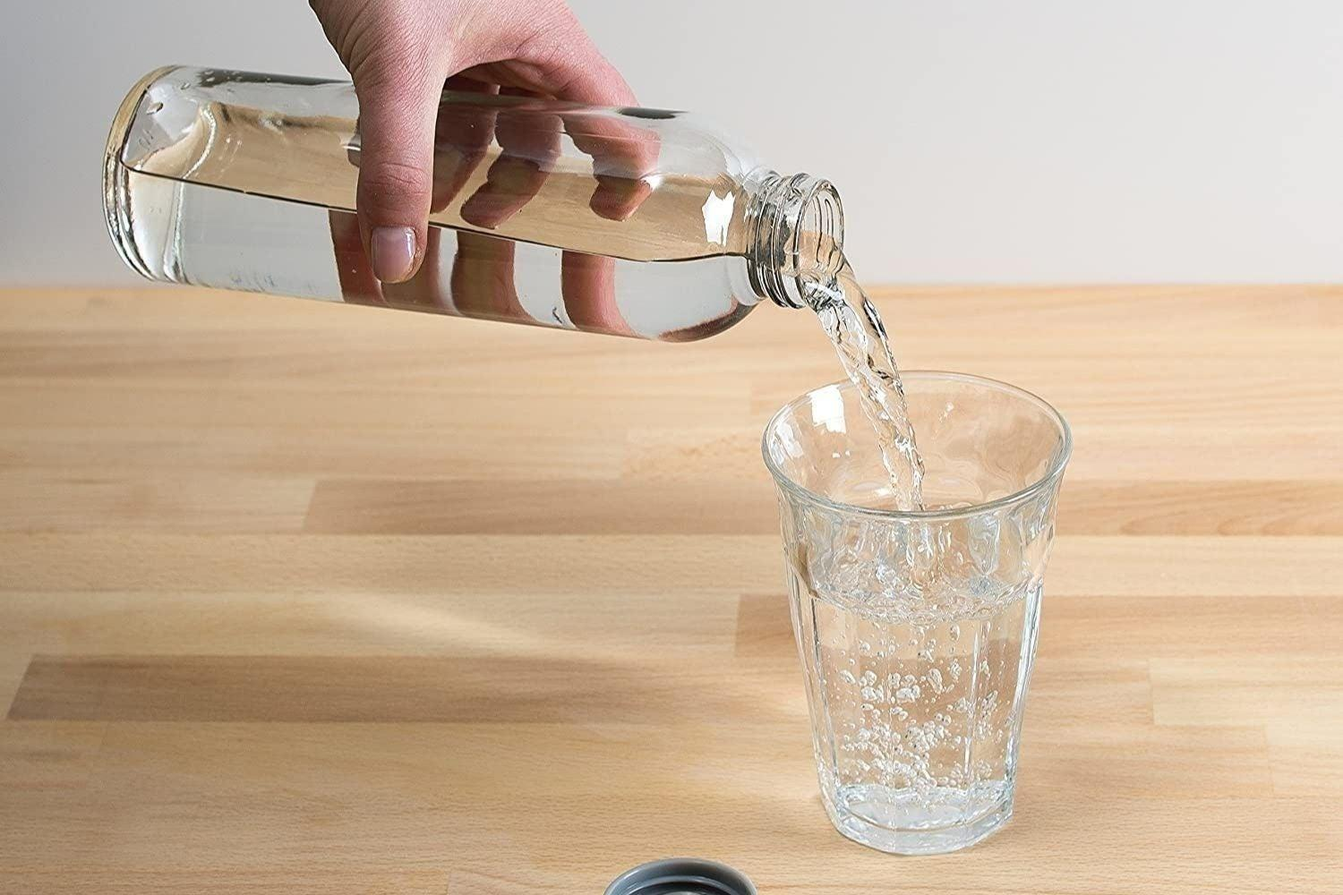bottle-glass: (96, 58, 850, 346)
glass-normal: (760, 368, 1073, 854)
